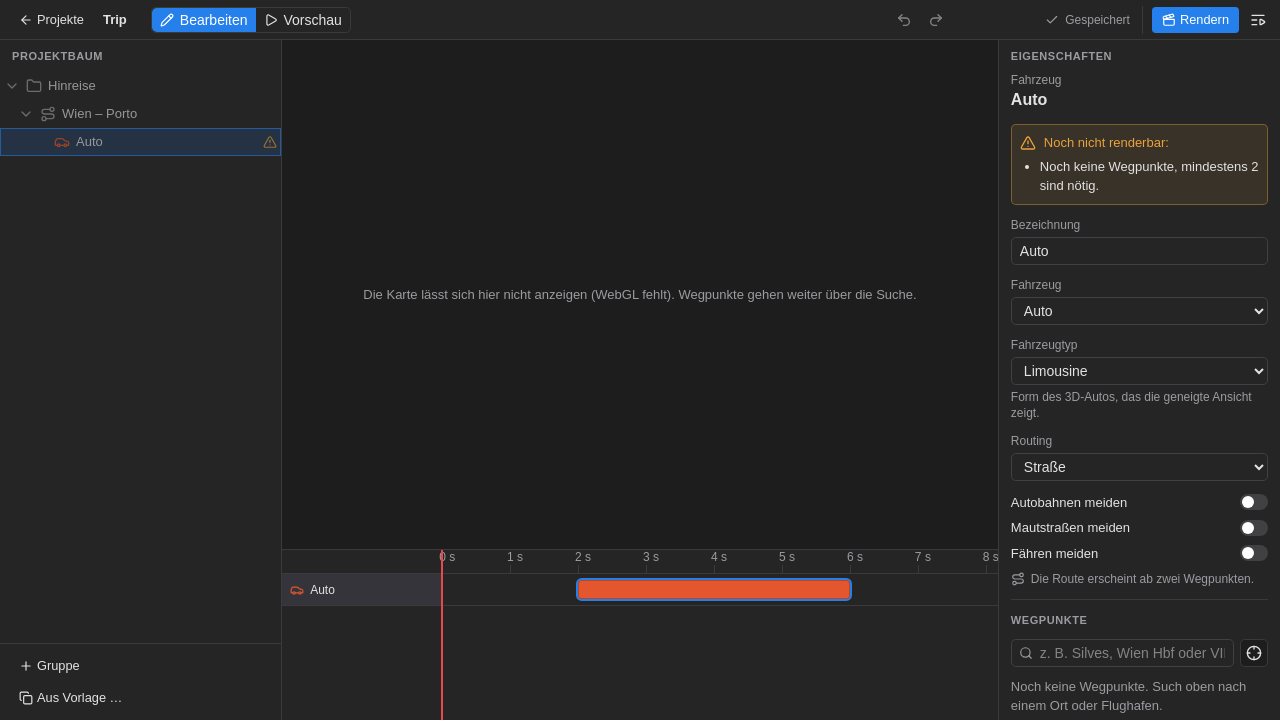
Scenario: Timeline › moves a bar by dragging and takes the whole drag back with one undo
Step 1. Press the mouse on the slider named "Zeitraum von Auto" → {"x": 714, "y": 590}, box [578,580,850,599]
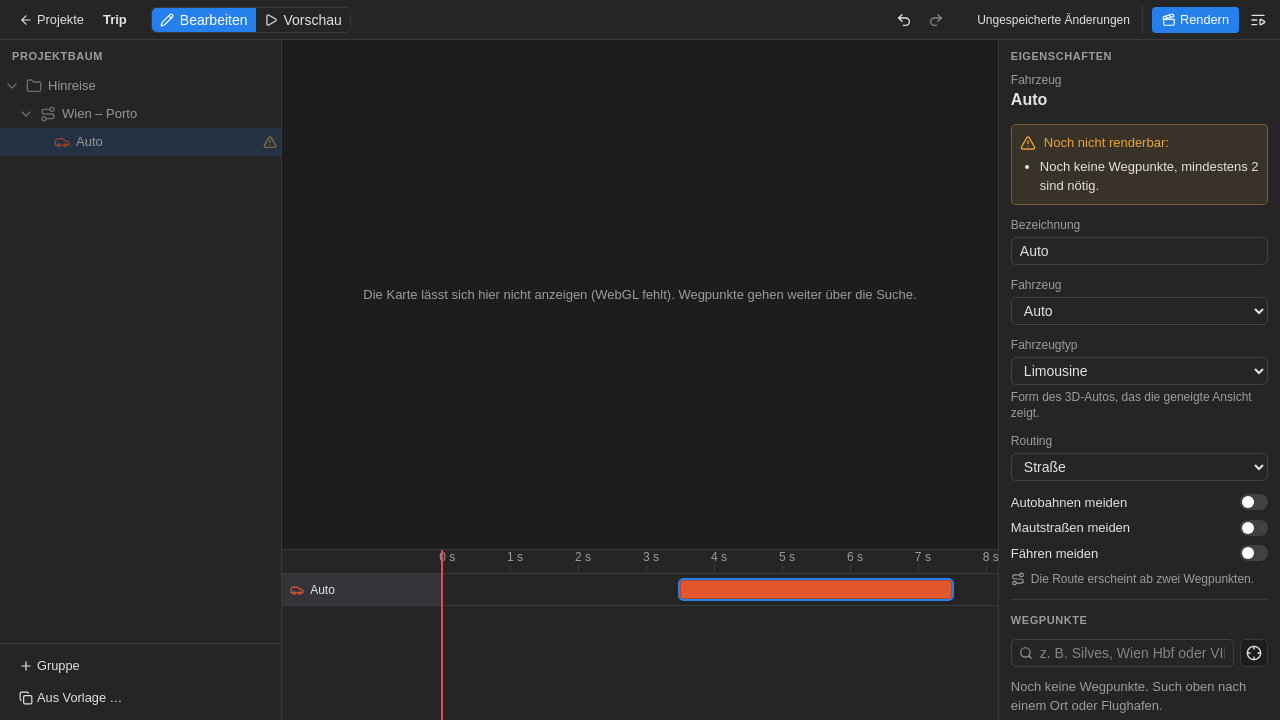
Expected: the slider named "Zeitraum von Auto" has attribute aria-valuetext="von 3,5 s bis 7,5 s", [680,580,952,599]
Step 2. Type keys "{Control>}z{/Control}"
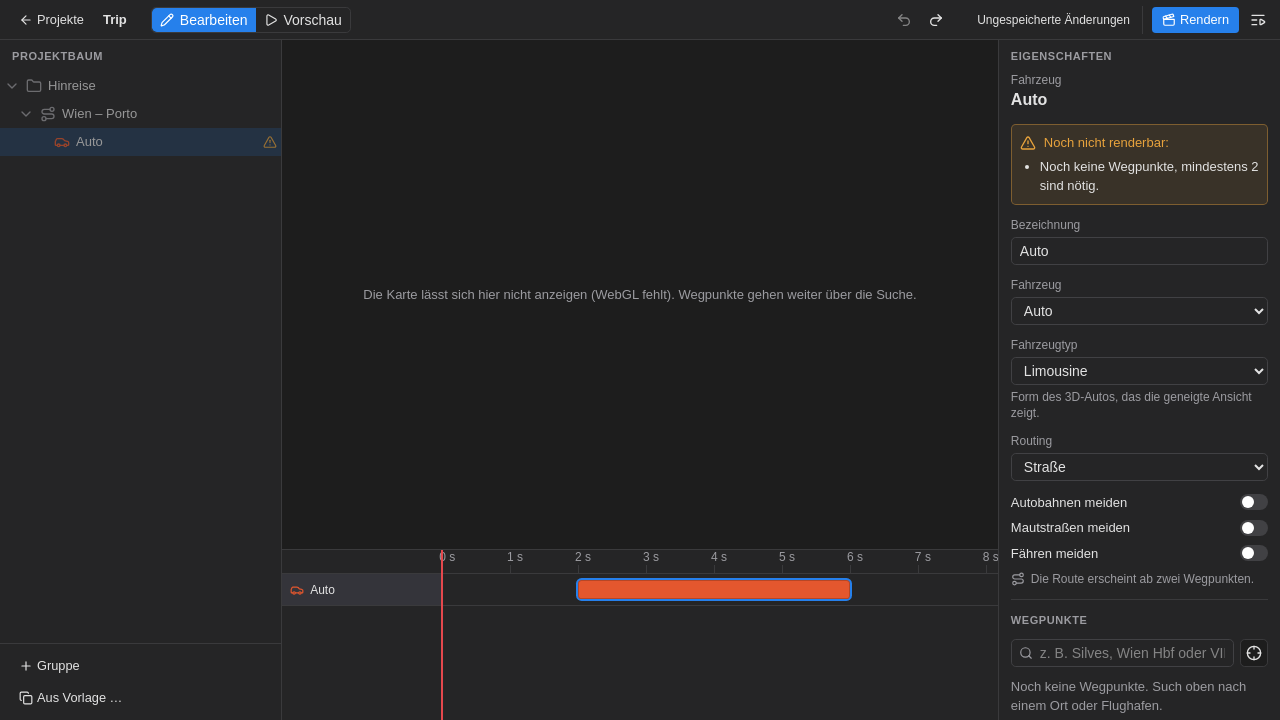
Expected: the slider named "Zeitraum von Auto" has attribute aria-valuetext="von 2,0 s bis 6,0 s", [578,580,850,599]
